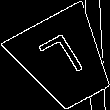L_SE: (37, 31, 92, 90)
